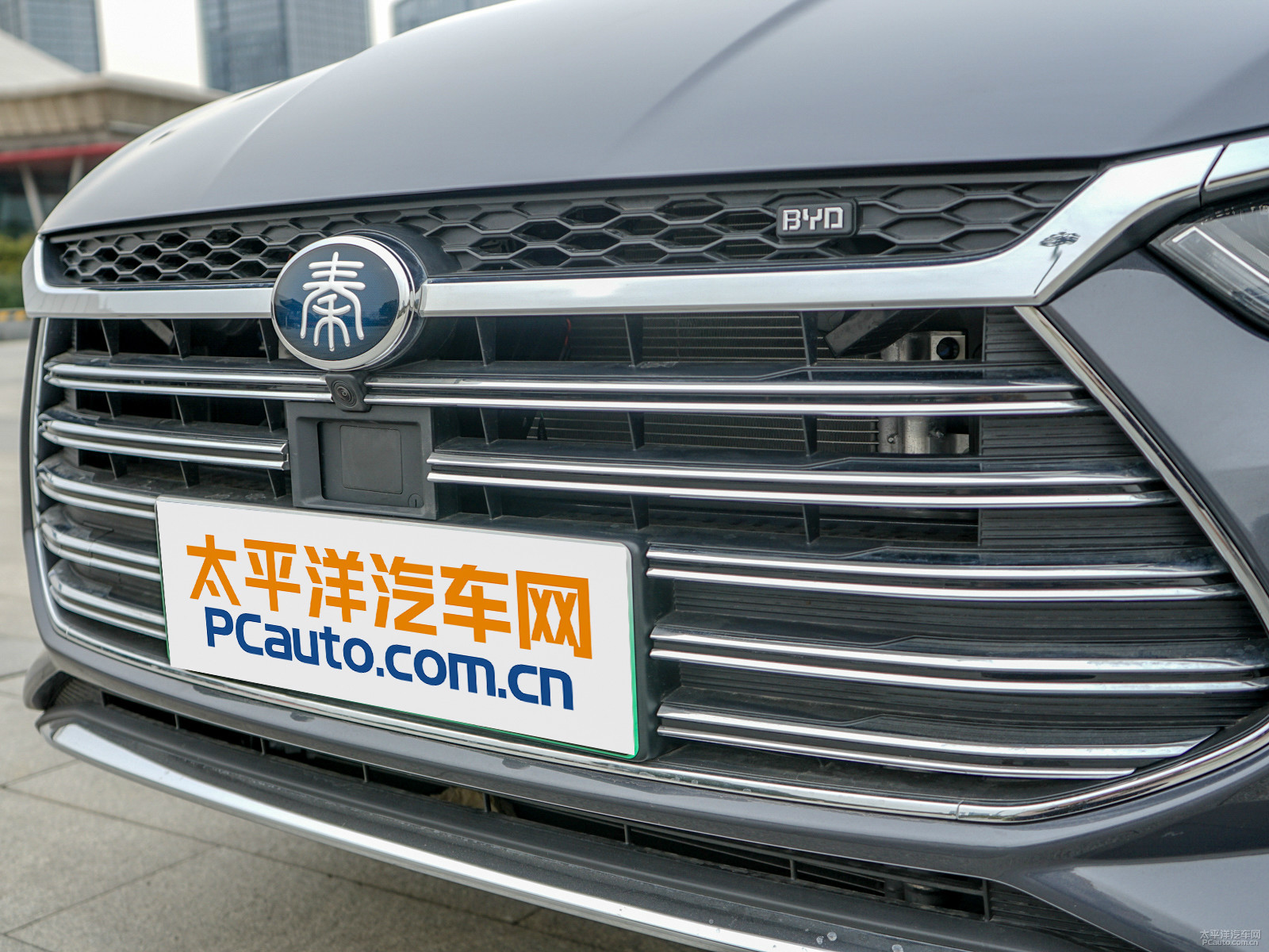BYD Qin: (270, 236, 408, 371)
